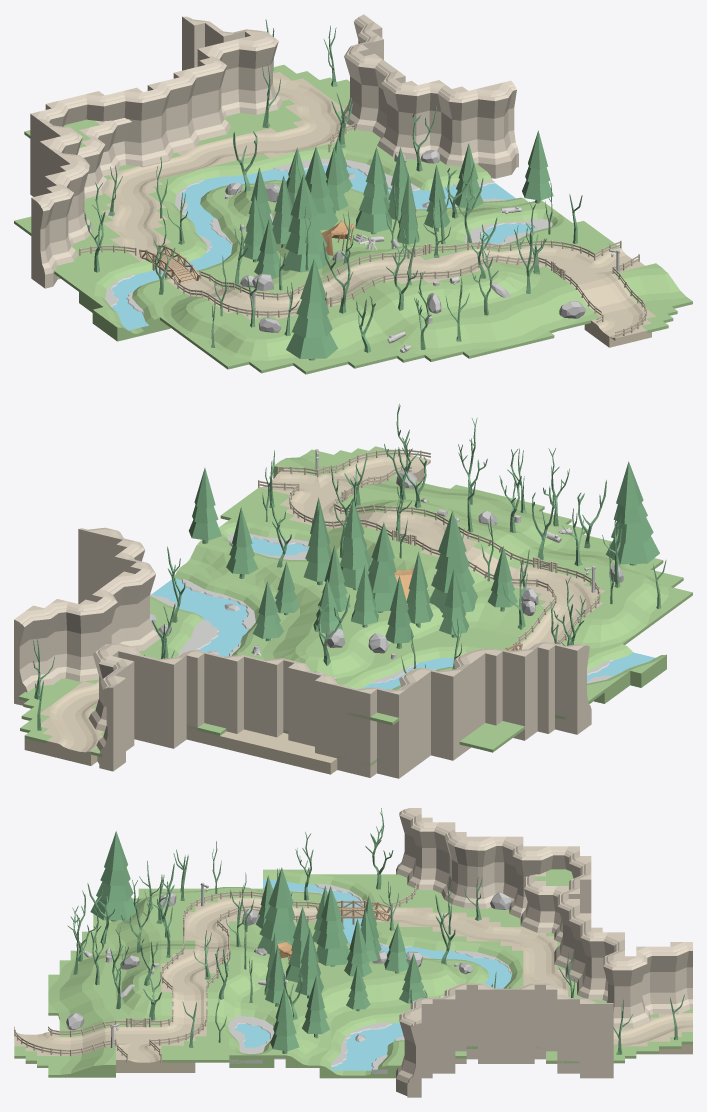
Rendered from Winter_v2.glb.
3 views of the same model, one above another, from view 1: azimuth 30°, elevation 25°; view 2: azimuth 150°, elevation 25°; view 3: azimuth 270°, elevation 25° (orthographic). The views are drawn at different scales.
Parts seen in each view (by area): view 1: Path_Terrain_Dirt_Flat_1x1_0_0_6, Grass_Flat_1x1_0_0_84, Grass_Hill_Gentle_Esse_4x5_0_1_1, Grass_Hill_Gentle_Overlapping_Gentle_4x4_0_0_1, Grass_Hill_Gentle_Esse_4x5_0_1_2, Grass_Hill_Gentle_Esse_4x5_0_0_3, Grass_Hill_Gentle_Curve_Outer_4x4_0_0_2, Grass_Hill_Sharp_Curve_Outer_4x4_0_0_4, Grass_Hill_Grade_Transition_Straight_Front_4x4_0_1_2, Grass_Flat_1x1_0_0_62, Grass_Hill_Gentle_Esse_4x5_0_0_1, Grass_Hill_Sharp_Curve_Inner_6x6_0_0_3 (+62 smaller); view 2: Path_Terrain_Dirt_Flat_1x1_0_0_6, Path_Terrain_Dirt_Flat_1x1_0_0_1, Grass_Hill_Grade_Transition_Curve_Outer_4x5_0_1_1, Grass_Hill_Grade_Transition_Curve_Inner_6x7_0_1_2, Basic_Curve_Inner_2x2_Wide_Base_0_1_2, Basic_Curve_Inner_2x2_Narrow_Base_0_1_1, Basic_Esse_Base_2x2_0_0_5, Grass_Hill_Sharp_Curve_Inner_6x6_0_0_4, Basic_Curve_Inner_2x2_Wide_Base_0_1_1, Grass_Flat_1x1_0_0_84, Grass_Hill_Grade_Transition_Straight_Front_4x4_0_1_1, Grass_Hill_Grade_Transition_Curve_Inner_6x7_0_1_1 (+65 smaller); view 3: Path_Terrain_Dirt_Flat_1x1_0_0_4, Grass_Hill_Gentle_Esse_4x5_0_1_2, Grass_Flat_1x1_0_0_84, Grass_Hill_Grade_Transition_Curve_Inner_6x7_0_1_1, Grass_Hill_Gentle_Esse_4x5_0_0_3, Grass_Hill_Sharp_Curve_Inner_6x6_0_0_5, Grass_Hill_Grade_Transition_Curve_Outer_4x5_0_0_1, Grass_Hill_Gentle_Esse_4x5_0_0_4, Grass_Hill_Sharp_Curve_Inner_6x6_0_0_1, Grass_Flat_1x1_0_0_78, Grass_Hill_Sharp_Curve_Inner_6x6_0_0_3, Grass_Hill_Gentle_Esse_4x5_0_0_2 (+63 smaller).
Part boxes in pixels (x1=…): Path_Terrain_Dirt_Flat_1x1_0_0_6: x1=121, y1=101, x2=330, y2=191; Grass_Flat_1x1_0_0_84: x1=14, y1=216, x2=140, y2=274; Grass_Hill_Gentle_Esse_4x5_0_1_1: x1=438, y1=312, x2=511, y2=351; Grass_Hill_Gentle_Overlapping_Gentle_4x4_0_0_1: x1=354, y1=291, x2=419, y2=341; Grass_Hill_Gentle_Esse_4x5_0_1_2: x1=614, y1=263, x2=686, y2=302; Grass_Hill_Gentle_Esse_4x5_0_0_3: x1=492, y1=299, x2=558, y2=342; Grass_Hill_Gentle_Curve_Outer_4x4_0_0_2: x1=379, y1=318, x2=462, y2=354; Grass_Hill_Sharp_Curve_Outer_4x4_0_0_4: x1=220, y1=332, x2=286, y2=360; Grass_Hill_Grade_Transition_Straight_Front_4x4_0_1_2: x1=418, y1=278, x2=483, y2=314; Grass_Flat_1x1_0_0_62: x1=197, y1=106, x2=302, y2=145; Grass_Hill_Gentle_Esse_4x5_0_0_1: x1=528, y1=284, x2=594, y2=327; Grass_Hill_Sharp_Curve_Inner_6x6_0_0_3: x1=79, y1=264, x2=136, y2=312; Path_Terrain_Dirt_Flat_1x1_0_0_6: x1=76, y1=693, x2=337, y2=774; Path_Terrain_Dirt_Flat_1x1_0_0_1: x1=24, y1=701, x2=97, y2=765; Grass_Hill_Grade_Transition_Curve_Outer_4x5_0_1_1: x1=562, y1=612, x2=634, y2=648; Grass_Hill_Grade_Transition_Curve_Inner_6x7_0_1_2: x1=420, y1=592, x2=511, y2=633; Basic_Curve_Inner_2x2_Wide_Base_0_1_2: x1=151, y1=705, x2=186, y2=748; Basic_Curve_Inner_2x2_Narrow_Base_0_1_1: x1=377, y1=735, x2=411, y2=778; Basic_Esse_Base_2x2_0_0_5: x1=555, y1=693, x2=591, y2=734; Grass_Hill_Sharp_Curve_Inner_6x6_0_0_4: x1=391, y1=639, x2=488, y2=669; Basic_Curve_Inner_2x2_Wide_Base_0_1_1: x1=431, y1=717, x2=465, y2=760; Grass_Flat_1x1_0_0_84: x1=459, y1=721, x2=524, y2=752; Grass_Hill_Grade_Transition_Straight_Front_4x4_0_1_1: x1=229, y1=555, x2=292, y2=596; Grass_Hill_Grade_Transition_Curve_Inner_6x7_0_1_1: x1=274, y1=576, x2=339, y2=624; Path_Terrain_Dirt_Flat_1x1_0_0_4: x1=116, y1=1024, x2=195, y2=1072; Grass_Hill_Gentle_Esse_4x5_0_1_2: x1=59, y1=1046, x2=115, y2=1077; Grass_Flat_1x1_0_0_84: x1=376, y1=884, x2=491, y2=907; Grass_Hill_Grade_Transition_Curve_Inner_6x7_0_1_1: x1=308, y1=978, x2=376, y2=1022; Grass_Hill_Gentle_Esse_4x5_0_0_3: x1=48, y1=988, x2=104, y2=1019; Grass_Hill_Sharp_Curve_Inner_6x6_0_0_5: x1=455, y1=941, x2=523, y2=974; Grass_Hill_Grade_Transition_Curve_Outer_4x5_0_0_1: x1=116, y1=987, x2=161, y2=1020; Grass_Hill_Gentle_Esse_4x5_0_0_4: x1=106, y1=921, x2=161, y2=950; Grass_Hill_Sharp_Curve_Inner_6x6_0_0_1: x1=331, y1=1013, x2=398, y2=1045; Grass_Flat_1x1_0_0_78: x1=184, y1=1041, x2=229, y2=1062; Grass_Hill_Sharp_Curve_Inner_6x6_0_0_3: x1=308, y1=874, x2=376, y2=904; Grass_Hill_Gentle_Esse_4x5_0_0_2: x1=376, y1=974, x2=421, y2=1008.
Size of the model in its own units: 45 by 11.02 by 60.02.
